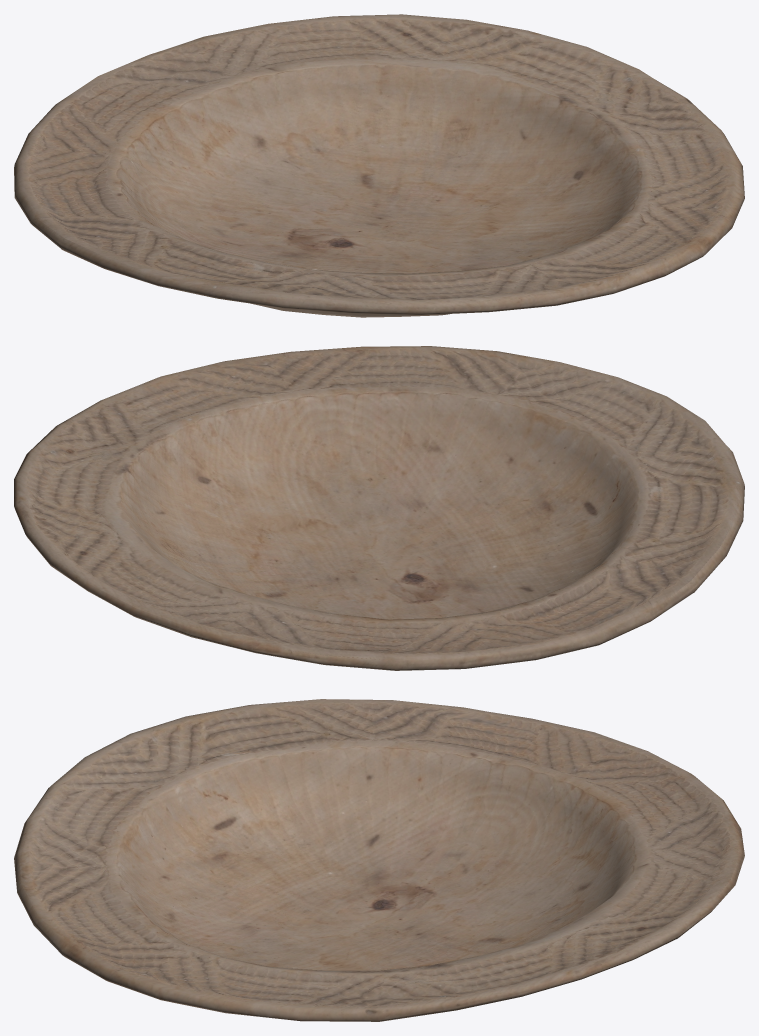
Rendered from carved_wooden_plate.glb.
The picture shows the model from 3 angles, top to bottom: view 1: azimuth 30°, elevation 25°; view 2: azimuth 150°, elevation 25°; view 3: azimuth 270°, elevation 25°; orthographic projection. The views are drawn at different scales.
Parts seen in each view (by area): view 1: carved_wooden_plate; view 2: carved_wooden_plate; view 3: carved_wooden_plate.
Boxes of the visible parts, x1,y1,x2,y2 form: carved_wooden_plate: (14, 14, 744, 317); carved_wooden_plate: (14, 346, 744, 670); carved_wooden_plate: (14, 699, 744, 1021).
Bounding box in the file's own units: 0.2718 × 0.0381 × 0.2689.
1 material, 1 textured.
